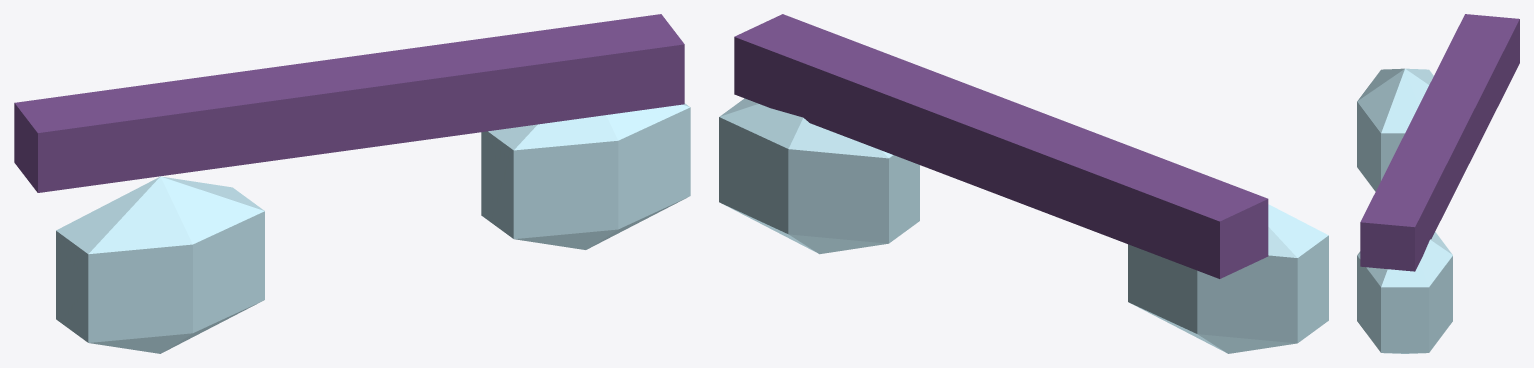
File: hostile_eye_03.glb
3 views of the same model, side by side, from view 1: azimuth 30°, elevation 25°; view 2: azimuth 150°, elevation 25°; view 3: azimuth 270°, elevation 25° (orthographic). The views are drawn at different scales.
Visible parts, largest first — view 1: hostile_eye_03; view 2: hostile_eye_03; view 3: hostile_eye_03.
Boxes of the visible parts, box(x1,y1,x2,y2) form: hostile_eye_03: box(14, 14, 690, 353); hostile_eye_03: box(719, 14, 1328, 353); hostile_eye_03: box(1357, 14, 1519, 353).
Size of the model in its own units: 0.368 by 0.1233 by 0.1163.
